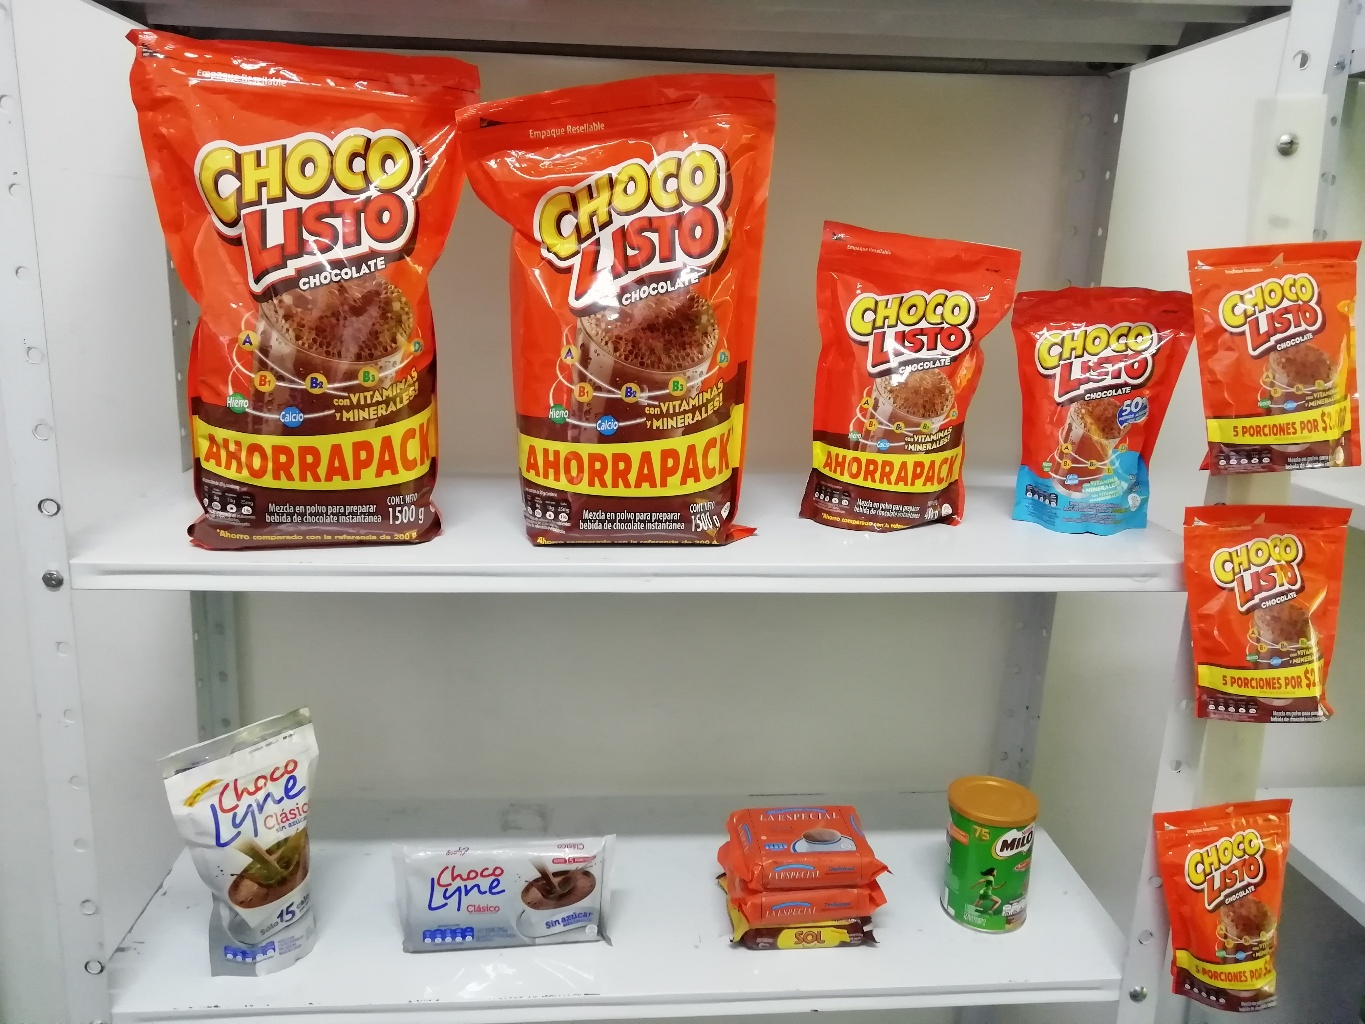COL0170103DYP1,500: (456, 58, 784, 558)
COL0170103DYP10000: (1178, 238, 1360, 470)
COL0170103DYP40000: (797, 203, 1026, 547)
COL0170104DYP20000: (1003, 278, 1199, 537)
COL0170203LAT20000: (928, 772, 1052, 937)
